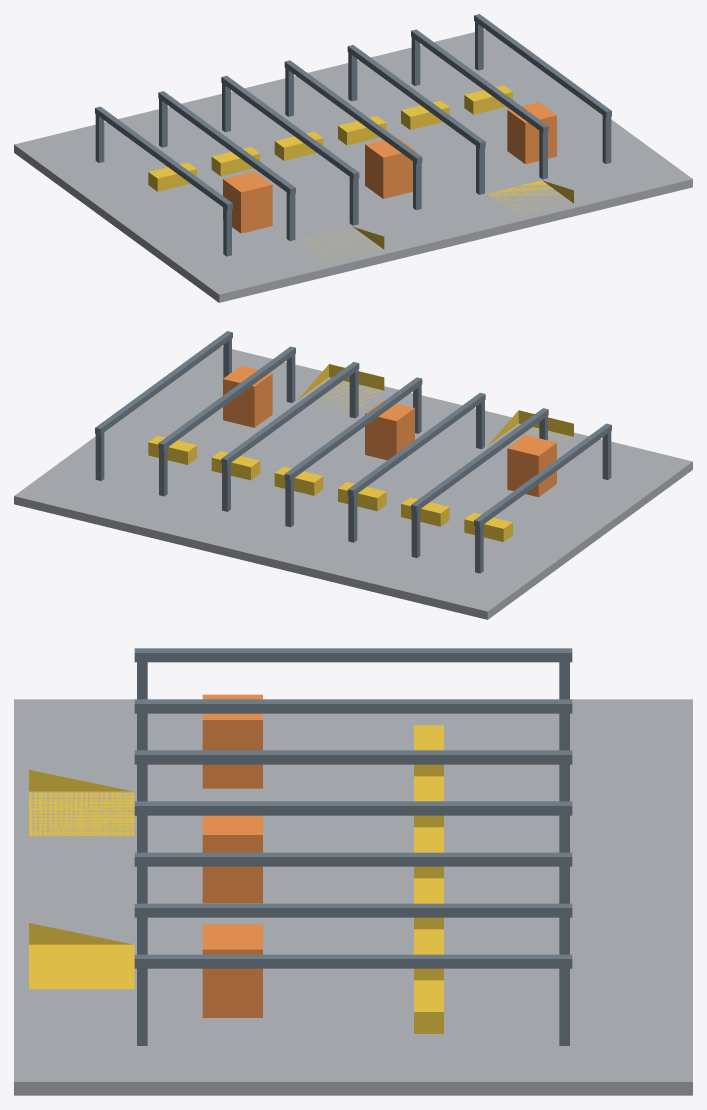
The model's file is gpt-patio-industrial.glb.
3 views of the same model, one above another, from view 1: azimuth 30°, elevation 25°; view 2: azimuth 150°, elevation 25°; view 3: azimuth 270°, elevation 25° (orthographic). The views are drawn at different scales.
Visible parts, largest first — view 1: Pátio Industrial-000, Pátio Industrial-028, Pátio Industrial-029, Pátio Industrial-030, Pátio Industrial-012, Pátio Industrial-009, Pátio Industrial-015, Pátio Industrial-021, Pátio Industrial-003, Pátio Industrial-018, Pátio Industrial-006, Pátio Industrial-032 (+13 smaller); view 2: Pátio Industrial-000, Pátio Industrial-028, Pátio Industrial-030, Pátio Industrial-029, Pátio Industrial-009, Pátio Industrial-012, Pátio Industrial-015, Pátio Industrial-021, Pátio Industrial-006, Pátio Industrial-003, Pátio Industrial-018, Pátio Industrial-032 (+13 smaller); view 3: Pátio Industrial-000, Pátio Industrial-003, Pátio Industrial-006, Pátio Industrial-018, Pátio Industrial-009, Pátio Industrial-021, Pátio Industrial-015, Pátio Industrial-012, Pátio Industrial-032, Pátio Industrial-031, Pátio Industrial-030, Pátio Industrial-029 (+9 smaller).
Boxes of the visible parts, x1,y1,x2,y2 form: Pátio Industrial-000: (14,29,692,302); Pátio Industrial-028: (223,171,272,233); Pátio Industrial-029: (365,136,414,198); Pátio Industrial-030: (507,102,556,164); Pátio Industrial-012: (284,60,422,163); Pátio Industrial-009: (221,75,359,179); Pátio Industrial-015: (347,45,485,148); Pátio Industrial-021: (474,14,611,117); Pátio Industrial-003: (95,106,232,210); Pátio Industrial-018: (411,29,548,133); Pátio Industrial-006: (158,91,295,194); Pátio Industrial-032: (487,180,573,216); Pátio Industrial-000: (14,346,692,619); Pátio Industrial-028: (507,435,556,497); Pátio Industrial-030: (223,365,272,427); Pátio Industrial-029: (365,400,414,460); Pátio Industrial-009: (347,392,485,496); Pátio Industrial-012: (284,377,422,480); Pátio Industrial-015: (221,362,359,465); Pátio Industrial-021: (95,331,232,434); Pátio Industrial-006: (411,408,548,511); Pátio Industrial-003: (474,423,611,527); Pátio Industrial-018: (158,346,295,450); Pátio Industrial-032: (298,364,384,411); Pátio Industrial-000: (14,699,692,1095); Pátio Industrial-003: (134,648,572,662); Pátio Industrial-006: (134,699,572,713); Pátio Industrial-018: (134,903,572,917); Pátio Industrial-009: (134,750,572,764); Pátio Industrial-021: (134,954,572,968); Pátio Industrial-015: (134,852,572,866); Pátio Industrial-012: (134,801,572,815); Pátio Industrial-032: (29,923,134,989); Pátio Industrial-031: (29,770,134,836); Pátio Industrial-030: (202,924,262,1017); Pátio Industrial-029: (202,815,262,903).
Size of the model in its own units: 60 by 7.35 by 45.
